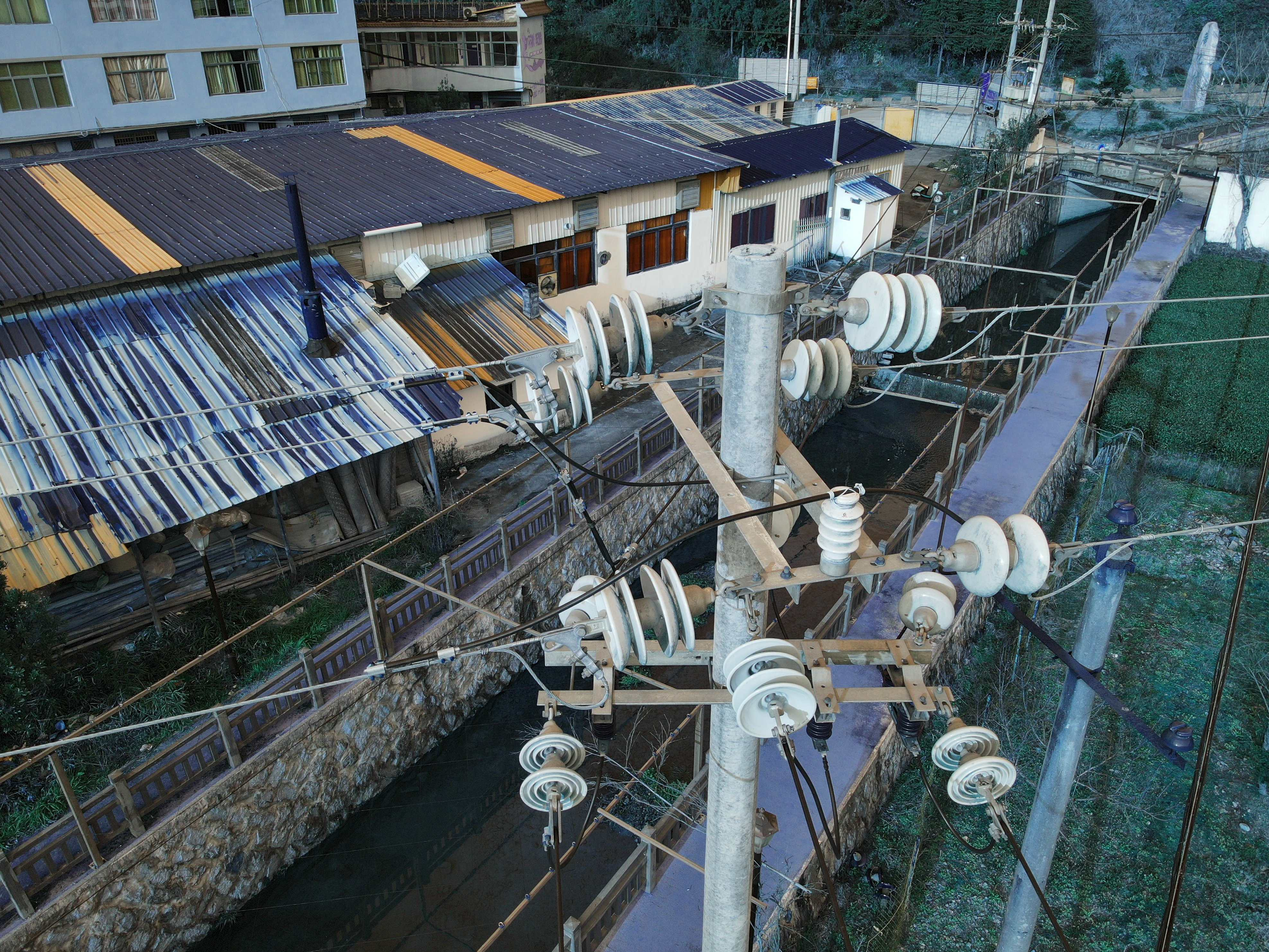severe_soiling_no_discharge_whole: (591, 555, 716, 664), (561, 288, 672, 387), (840, 268, 944, 355), (948, 513, 1051, 598), (929, 716, 1016, 808), (780, 336, 855, 403), (553, 364, 604, 428)
